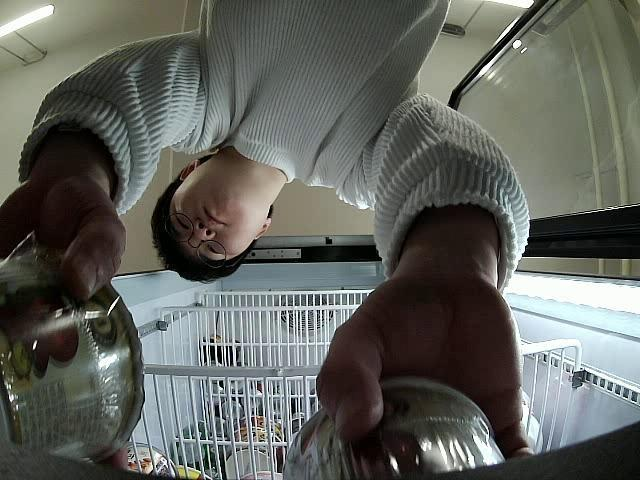04_chapagetti_S: (0, 250, 146, 462), (284, 381, 506, 480)
